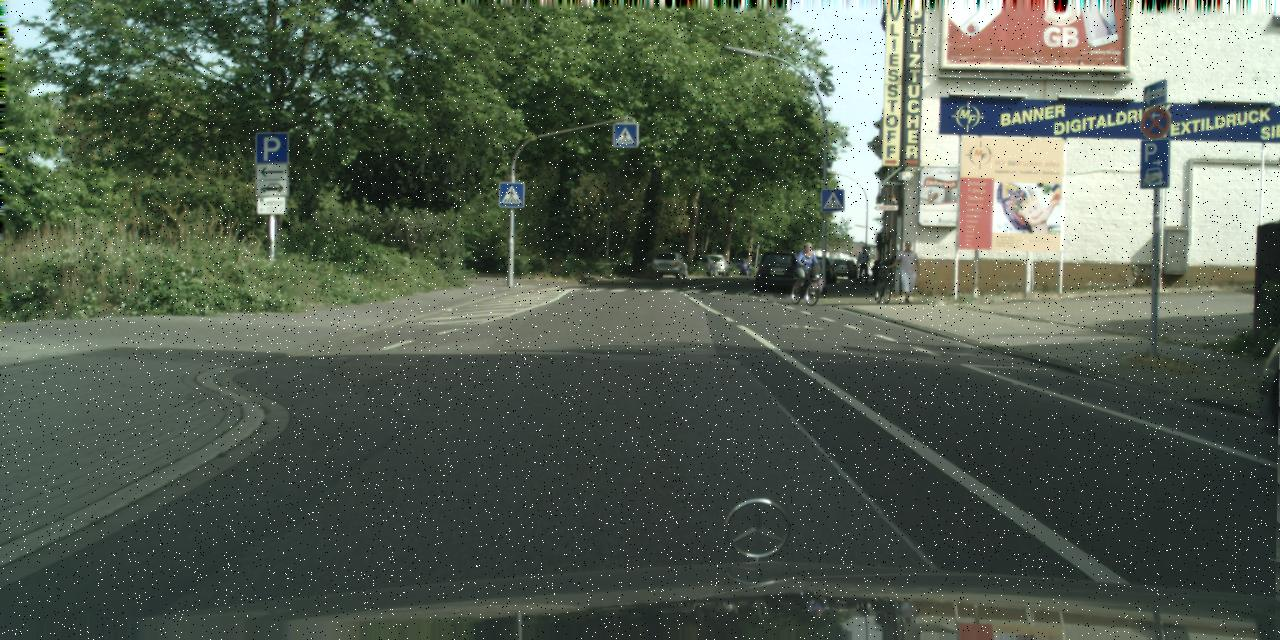ped: (894, 239, 920, 303), (796, 242, 816, 292), (856, 246, 871, 284)
